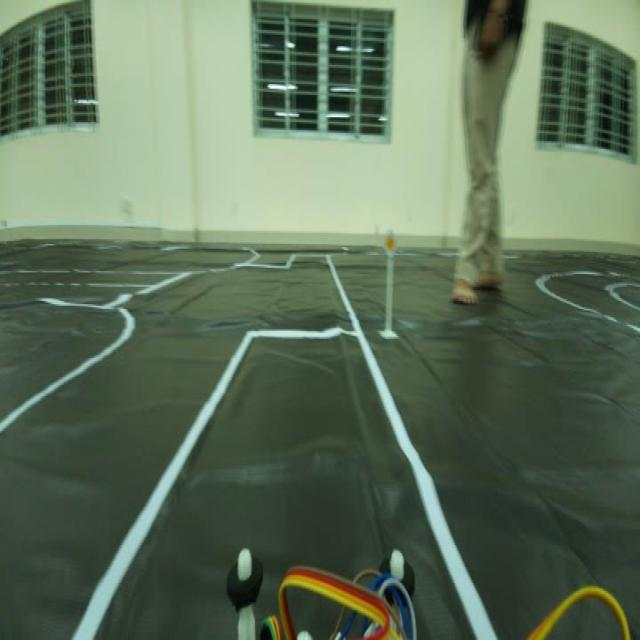priority: (380, 234, 401, 265)
